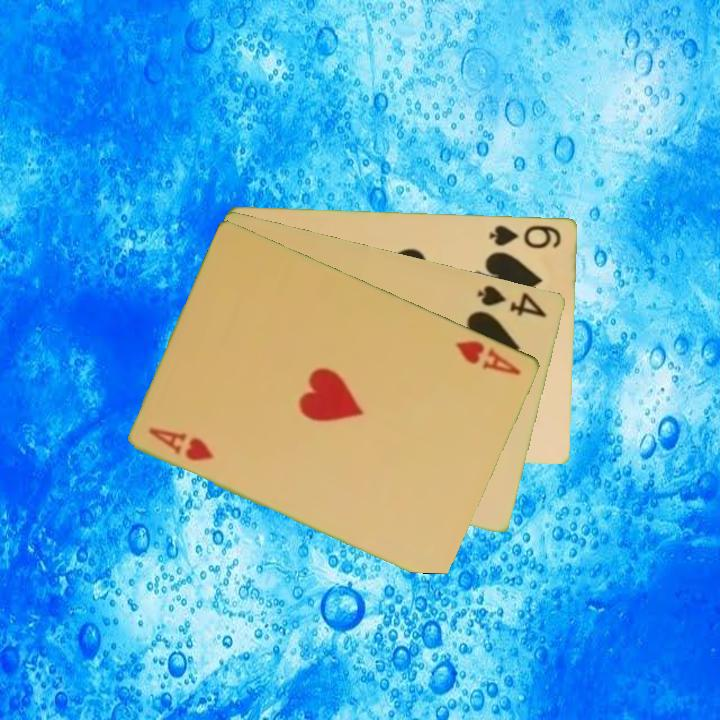4s: (474, 281, 550, 321)
6s: (486, 221, 564, 251)
Ah: (453, 336, 524, 378), (145, 424, 218, 464)
